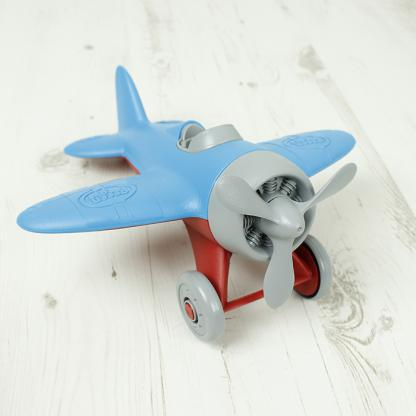CIV_Plane: (14, 60, 358, 340)
